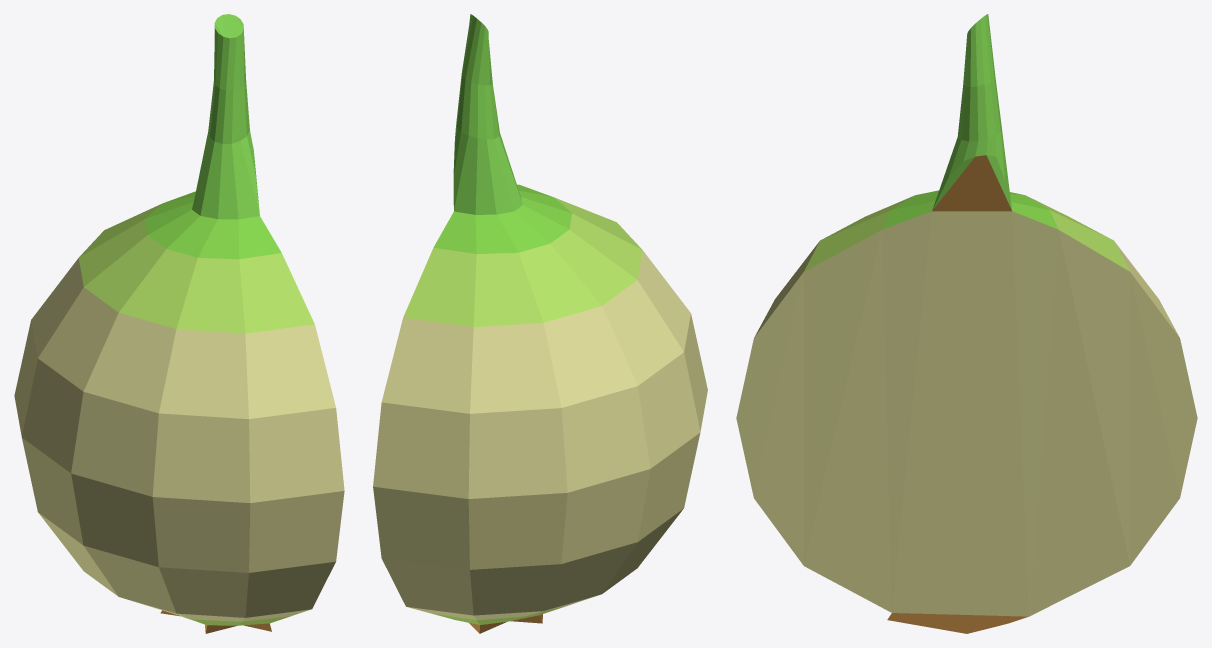
The model's file is Onion_1.fbx.
The picture shows the model from 3 angles, left to right: view 1: azimuth 30°, elevation 25°; view 2: azimuth 150°, elevation 25°; view 3: azimuth 270°, elevation 25°; orthographic projection. The views are drawn at different scales.
Parts seen in each view (by area): view 1: Sphere.008; view 2: Sphere.008; view 3: Sphere.008.
Part boxes in pixels (left/top/right/bottom): Sphere.008: left=14, top=14, right=344, bottom=633; Sphere.008: left=373, top=14, right=707, bottom=633; Sphere.008: left=736, top=14, right=1197, bottom=633.
Size of the model in its own units: 260 by 386 by 142.
